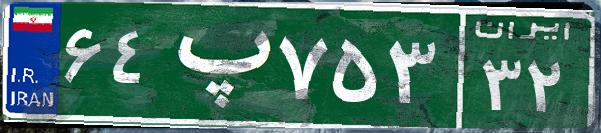2: (525, 38, 570, 115)
3: (385, 28, 445, 110), (475, 38, 525, 113)
4: (110, 28, 158, 105)
5: (330, 28, 385, 110)
6: (57, 26, 110, 107)
7: (273, 28, 330, 110)
پ: (158, 15, 273, 115)
